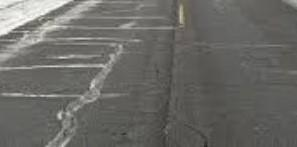alligator-crack: (43, 43, 125, 147)
crack: (160, 0, 181, 147), (180, 120, 214, 147)
pothole: (240, 51, 284, 70)
